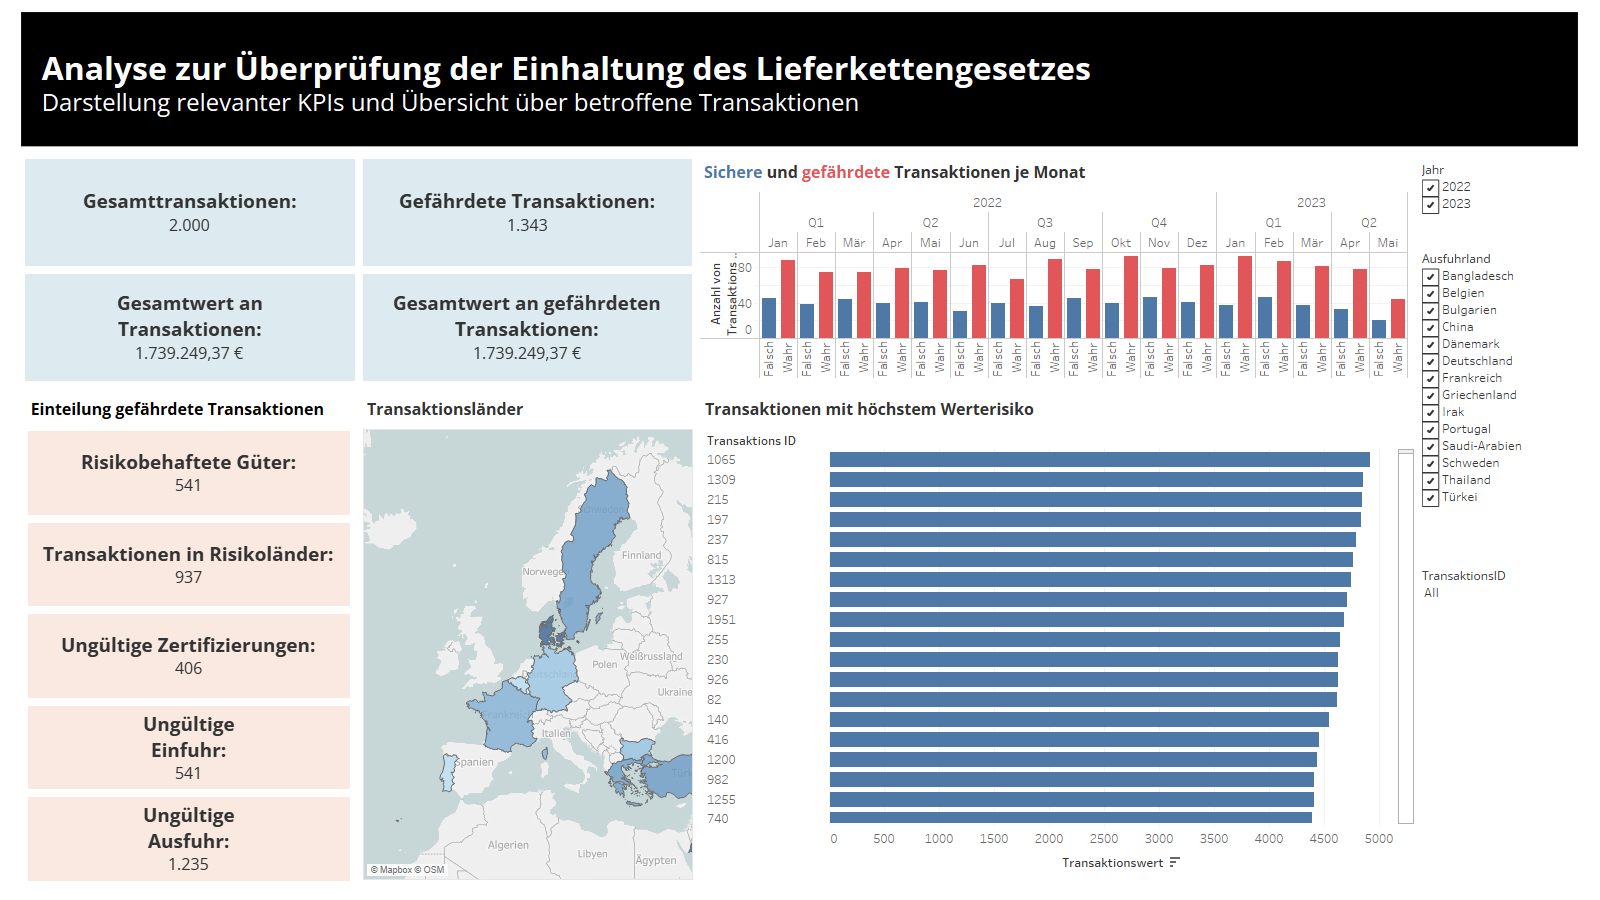

The dashboard page shown, as its layout file describes it:
{"tool":"tableau","page":{"name":"Dashboard 1","canvas":[1600,900],"ordinal":0},"visuals":[{"type":"image","param":"Image/CleanBackground.png","box":[8,8,1584,884]},{"type":"text","box":[39,35,1237,66]},{"type":"text","box":[39,69,1237,66]},{"type":"worksheet","title":"AnzahlTransaktionenGesamt","mark":"Automatic","box":[21,155,338,115]},{"type":"worksheet","title":"GefährdeteTransaktionen","mark":"Automatic","box":[359,155,337,115]},{"type":"worksheet","title":"TransaktionenJeDatum","mark":"Bar","rows":["transaktionsID"],"cols":["zeitpunkt","zeitpunkt","zeitpunkt","Calculation_1368531380761722881"],"box":[700,155,708,224]},{"type":"filter","title":"TransaktionenJeDatum","param":"[federated.0qe1mqn07rdtia140k6pj0cogryv].[yr:zeitpunkt:ok]","box":[1418,156,168,89]},{"type":"filter","title":"Weltkarte","param":"[federated.0qe1mqn07rdtia140k6pj0cogryv].[none:ausfuhrland:nk]","box":[1418,245,168,317]},{"type":"worksheet","title":"WertAnTransaktionen","mark":"Automatic","box":[21,270,338,115]},{"type":"worksheet","title":"WertAnGefährdetenTransaktionen","mark":"Automatic","box":[359,270,337,115]},{"type":"text","box":[24,390,330,37]},{"type":"worksheet","title":"Weltkarte","mark":"Automatic","box":[363,392,330,488]},{"type":"worksheet","title":"TransaktionenHöchstesRisiko","mark":"Automatic","rows":["transaktionsID"],"cols":["Calculation_1368531380761165824"],"box":[701,392,713,486]},{"type":"worksheet","title":"AnzahlGefährlichesGut","mark":"Automatic","box":[24,427,330,91.6]},{"type":"worksheet","title":"AnzahlRisikoLand","mark":"Automatic","box":[24,518.6,330,91.6]},{"type":"filter","title":"TransaktionenHöchstesRisiko","param":"[federated.0qe1mqn07rdtia140k6pj0cogryv].[none:transaktionsID:nk]","box":[1418,562,168,52]},{"type":"worksheet","title":"AnzahlUngültigeZertifikate","mark":"Automatic","box":[24,610.2,330,91.6]},{"type":"worksheet","title":"AnzahlUngültigeEinfuhr","mark":"Automatic","box":[24,701.8,330,91.6]},{"type":"worksheet","title":"AnzahlUngültigeAusfuhr","mark":"Automatic","box":[24,793.4,330,91.6]}]}

Visuals, with their boxes in screenshot pixels (x1, y1, x2, y2), scaled from the page's 1600x900 canvas onto the 1600x900 screenshot:
image: bbox=(8, 8, 1592, 892)
text: bbox=(39, 35, 1276, 101)
text: bbox=(39, 69, 1276, 135)
"AnzahlTransaktionenGesamt" worksheet: bbox=(21, 155, 359, 270)
"GefährdeteTransaktionen" worksheet: bbox=(359, 155, 696, 270)
"TransaktionenJeDatum" worksheet (Bar marks): bbox=(700, 155, 1408, 379)
"TransaktionenJeDatum" filter: bbox=(1418, 156, 1586, 245)
"Weltkarte" filter: bbox=(1418, 245, 1586, 562)
"WertAnTransaktionen" worksheet: bbox=(21, 270, 359, 385)
"WertAnGefährdetenTransaktionen" worksheet: bbox=(359, 270, 696, 385)
text: bbox=(24, 390, 354, 427)
"Weltkarte" worksheet: bbox=(363, 392, 693, 880)
"TransaktionenHöchstesRisiko" worksheet: bbox=(701, 392, 1414, 878)
"AnzahlGefährlichesGut" worksheet: bbox=(24, 427, 354, 519)
"AnzahlRisikoLand" worksheet: bbox=(24, 519, 354, 610)
"TransaktionenHöchstesRisiko" filter: bbox=(1418, 562, 1586, 614)
"AnzahlUngültigeZertifikate" worksheet: bbox=(24, 610, 354, 702)
"AnzahlUngültigeEinfuhr" worksheet: bbox=(24, 702, 354, 793)
"AnzahlUngültigeAusfuhr" worksheet: bbox=(24, 793, 354, 885)
